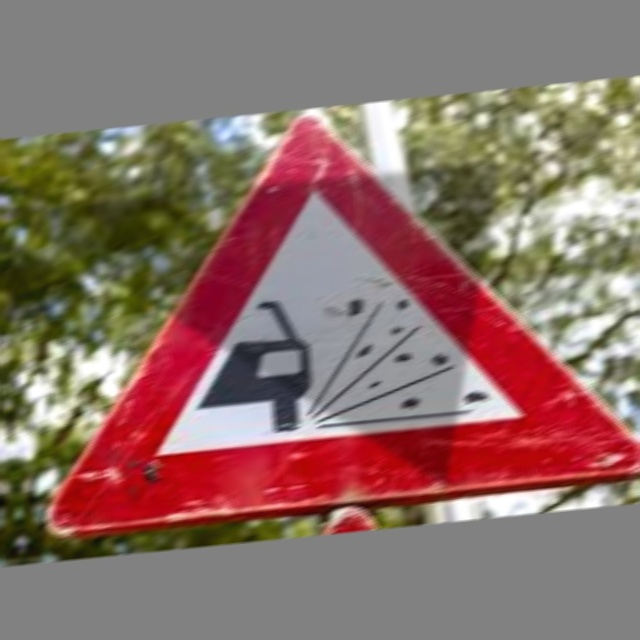Loose_Gravel: (38, 86, 630, 536)
